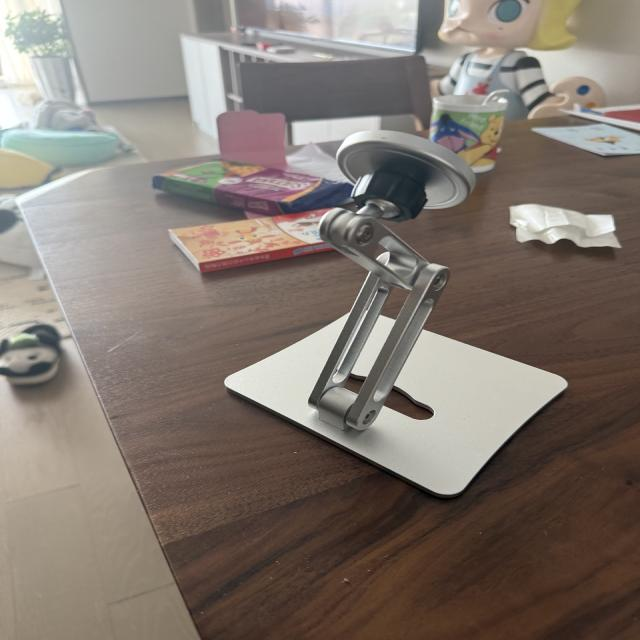phone holder: (221, 128, 574, 499)
